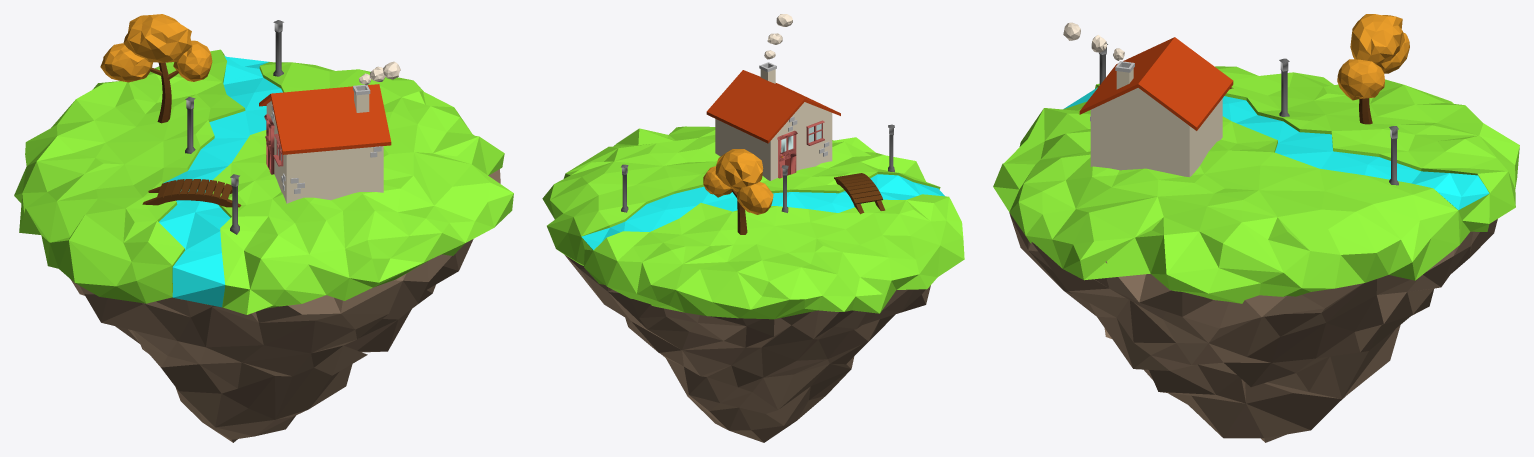
File: final_floating_island.fbx
The picture shows the model from 3 angles, left to right: view 1: azimuth 30°, elevation 25°; view 2: azimuth 150°, elevation 25°; view 3: azimuth 270°, elevation 25°; orthographic projection. The views are drawn at different scales.
Parts seen in each view (by area): view 1: grass, bottom, roof, walls, Sphere, Sphere_2_3, Sphere_1, Cube_5_2, Loft_3, Door; view 2: grass, bottom, roof, walls, Sphere, Sphere_2_3, Door, Sphere_1; view 3: grass, bottom, walls, roof, Sphere, Sphere_1.
Part boxes in pixels (x1,y1,x2,y2): grass: (14, 49, 513, 314); bottom: (70, 169, 500, 442); roof: (259, 84, 391, 154); walls: (266, 101, 383, 203); Sphere: (123, 14, 191, 62); Sphere_2_3: (100, 43, 152, 82); Sphere_1: (173, 40, 212, 81); Cube_5_2: (142, 192, 241, 207); Loft_3: (157, 62, 171, 123); Door: (264, 114, 274, 174); grass: (542, 126, 964, 319); bottom: (564, 254, 930, 442); roof: (706, 70, 840, 143); walls: (715, 102, 832, 180); Sphere: (715, 149, 763, 192); Sphere_2_3: (737, 181, 773, 214); Door: (777, 130, 797, 178); Sphere_1: (703, 166, 733, 197); grass: (993, 66, 1519, 303); bottom: (1009, 212, 1497, 442); walls: (1090, 88, 1222, 177); roof: (1079, 37, 1233, 130); Sphere: (1350, 14, 1404, 65); Sphere_1: (1337, 59, 1384, 100).
Bounding box in the file's own units: 196 × 186 × 196.
